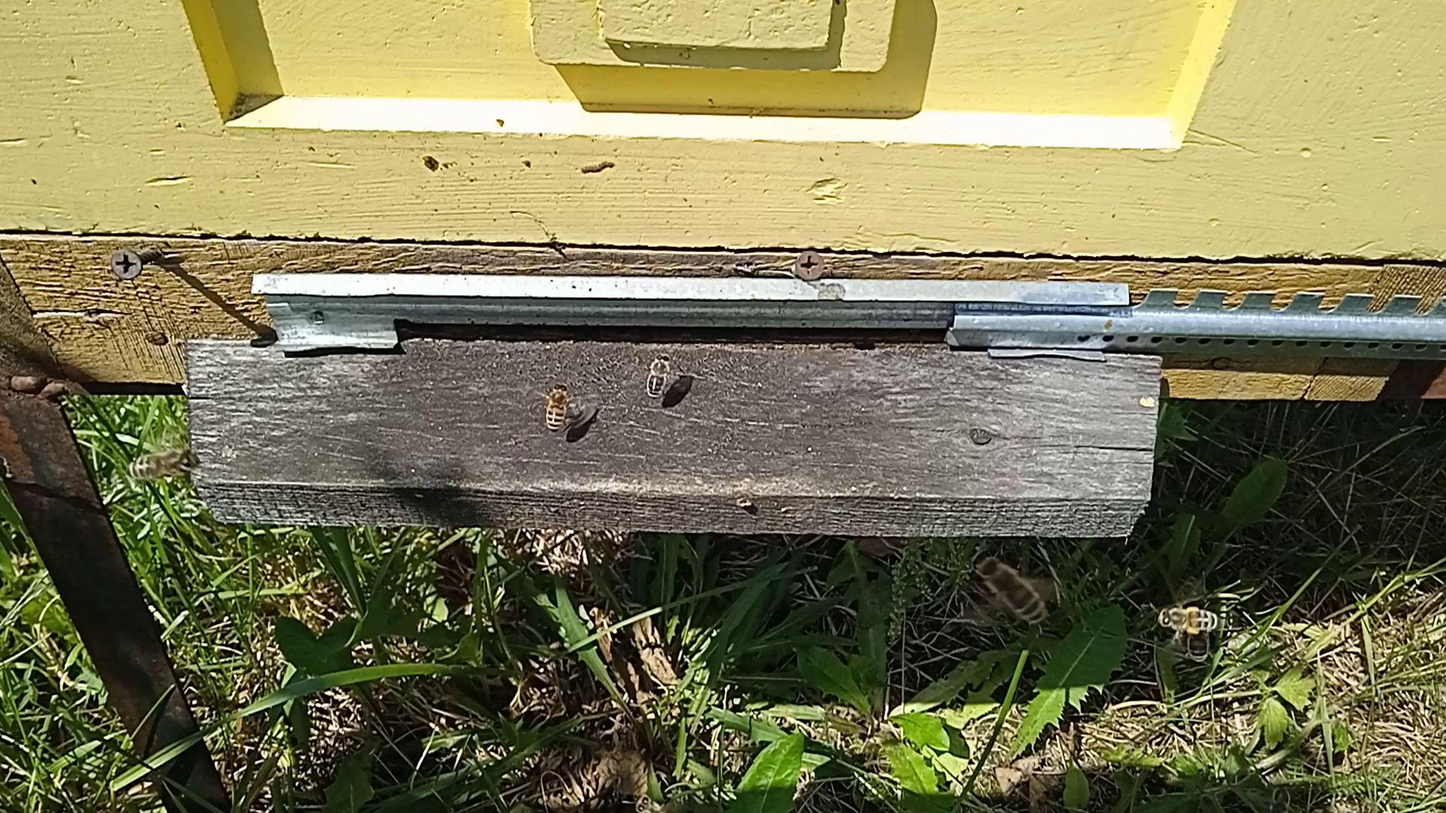worker-bee: (974, 554, 1047, 624), (130, 447, 200, 480), (1157, 606, 1219, 632), (644, 352, 676, 399), (543, 382, 570, 432), (1184, 631, 1210, 665), (633, 796, 662, 813)
